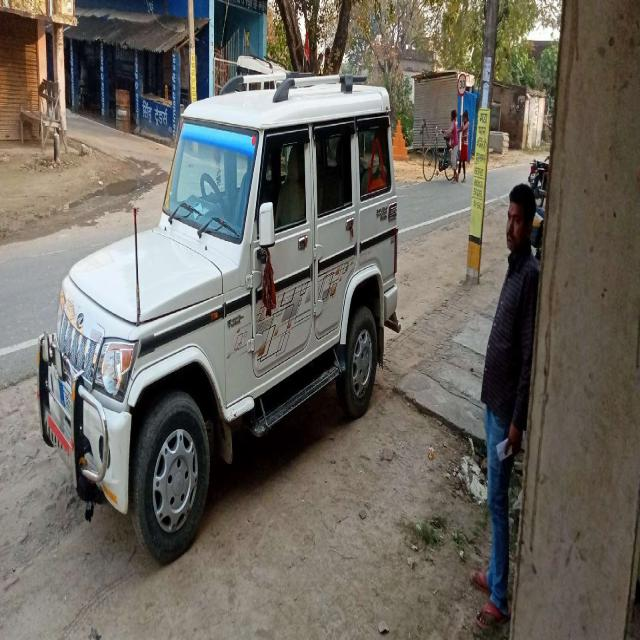light_vehicle: (47, 88, 396, 500)
